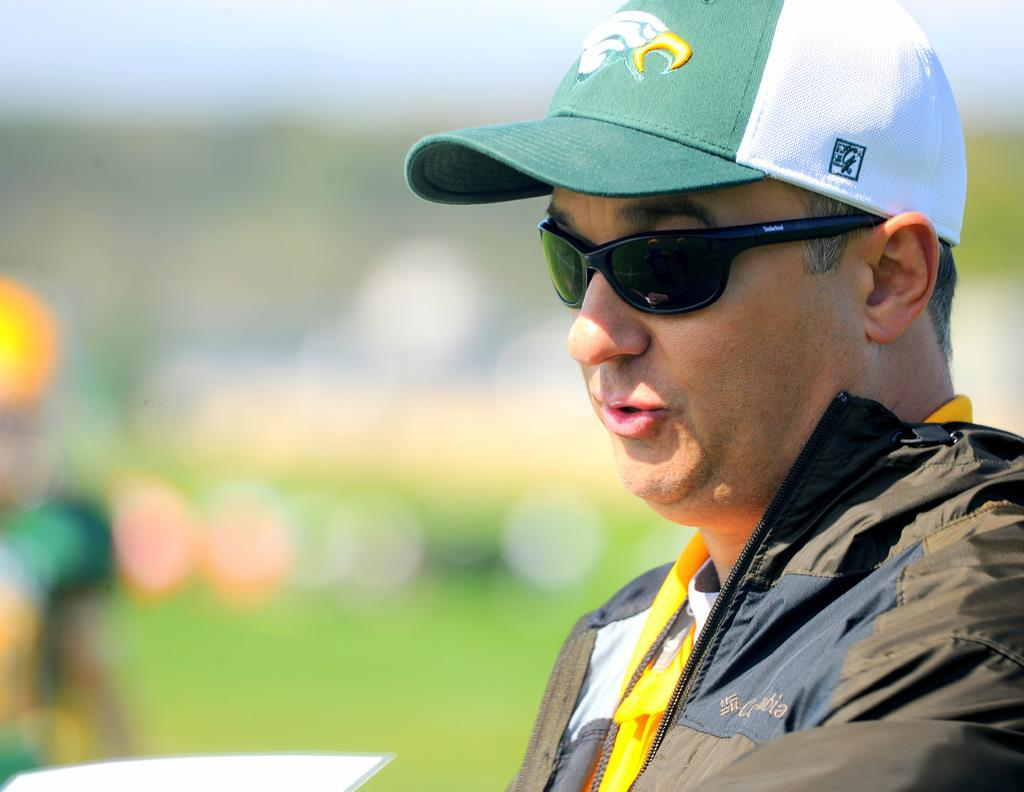Hat: (403, 0, 965, 246)
